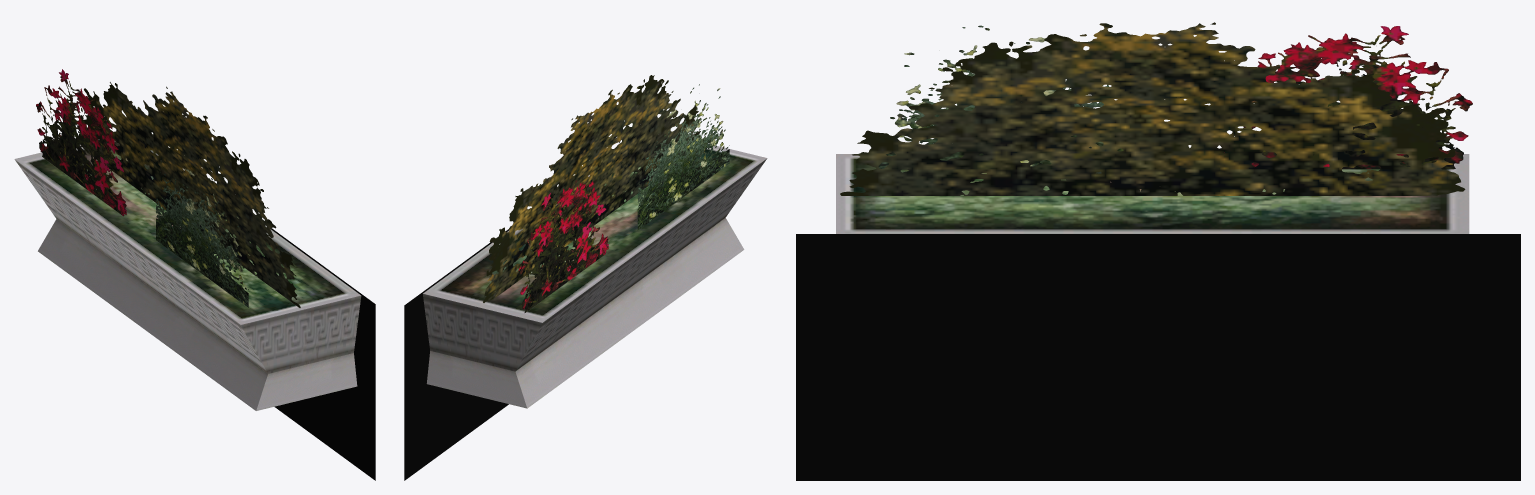
File: sfx_winplant08.obj
The picture shows the model from 3 angles, left to right: view 1: azimuth 30°, elevation 25°; view 2: azimuth 150°, elevation 25°; view 3: azimuth 270°, elevation 25°; orthographic projection. The views are drawn at different scales.
Visible parts, largest first — view 1: sfx_winplant08; view 2: sfx_winplant08; view 3: sfx_winplant08.
Part boxes in pixels (left/top/right/bottom): sfx_winplant08: left=14, top=69, right=375, bottom=480; sfx_winplant08: left=404, top=75, right=767, bottom=480; sfx_winplant08: left=796, top=22, right=1520, bottom=480.
Bounding box in the file's own units: 0.7211 × 1.74 × 2.69.
5 materials, 5 textured.
